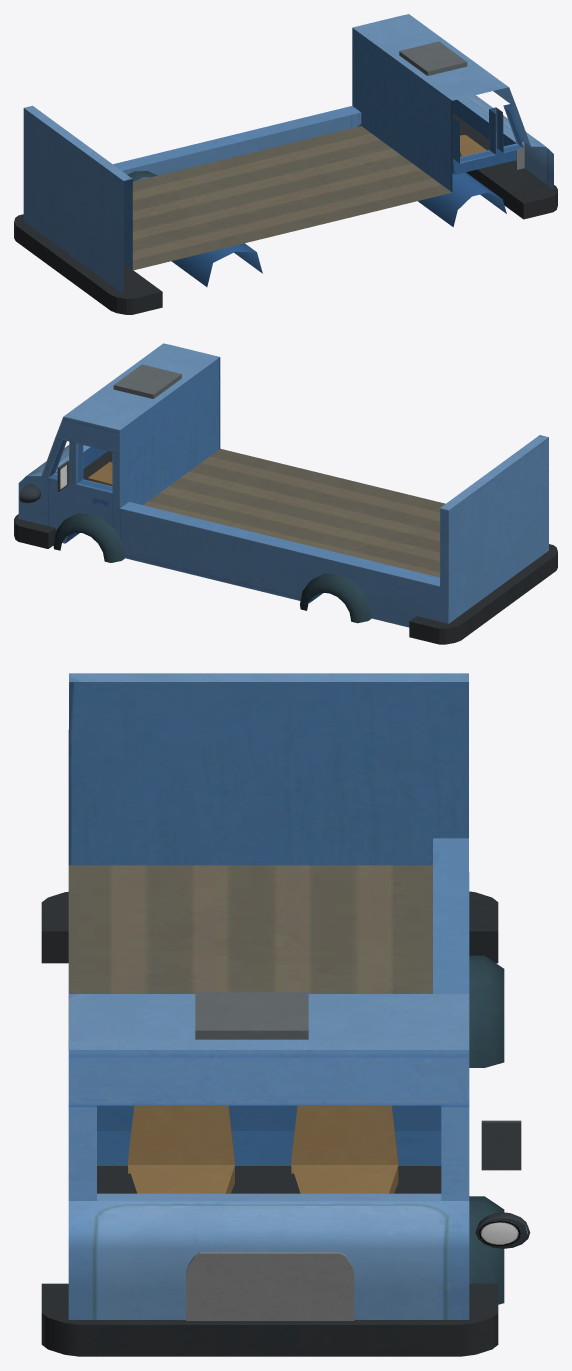
Rendered from FoodTruck.fbx.
The picture shows the model from 3 angles, top to bottom: view 1: azimuth 30°, elevation 25°; view 2: azimuth 150°, elevation 25°; view 3: azimuth 270°, elevation 25°; orthographic projection. The views are drawn at different scales.
Visible parts, largest first — view 1: FoodTruck; view 2: FoodTruck; view 3: FoodTruck.
Boxes of the visible parts, x1=… form: FoodTruck: x1=14, y1=14, x2=557, y2=314; FoodTruck: x1=14, y1=343, x2=557, y2=644; FoodTruck: x1=41, y1=673, x2=530, y2=1356.
Bounding box in the file's own units: 15.09 × 4.33 × 7.17.
2 materials, 2 textured.
